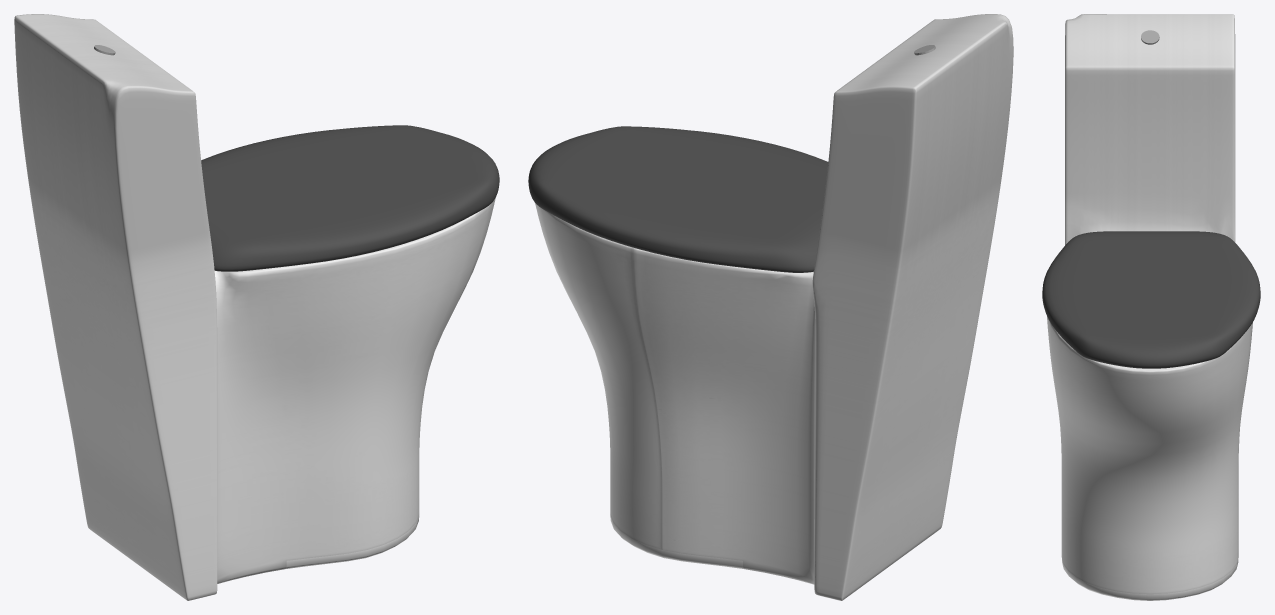
File: Retrete.fbx
3 renders of one model, left to right at view 1: azimuth 30°, elevation 25°; view 2: azimuth 150°, elevation 25°; view 3: azimuth 270°, elevation 25°, orthographic. The views are drawn at different scales.
Parts seen in each view (by area): view 1: Cylinder001, Box001; view 2: Cylinder001, Box001; view 3: Cylinder001, Box001.
Part boxes in pixels (box(x1,y1,x2,y2)): Cylinder001: box(14, 14, 495, 600); Box001: box(201, 125, 499, 271); Cylinder001: box(535, 14, 1013, 600); Box001: box(528, 126, 828, 272); Cylinder001: box(1047, 14, 1252, 600); Box001: box(1042, 231, 1260, 368).
Size of the model in its own units: 50.42 by 60.35 by 26.64.
Materials: 3 (1 with a texture image).
